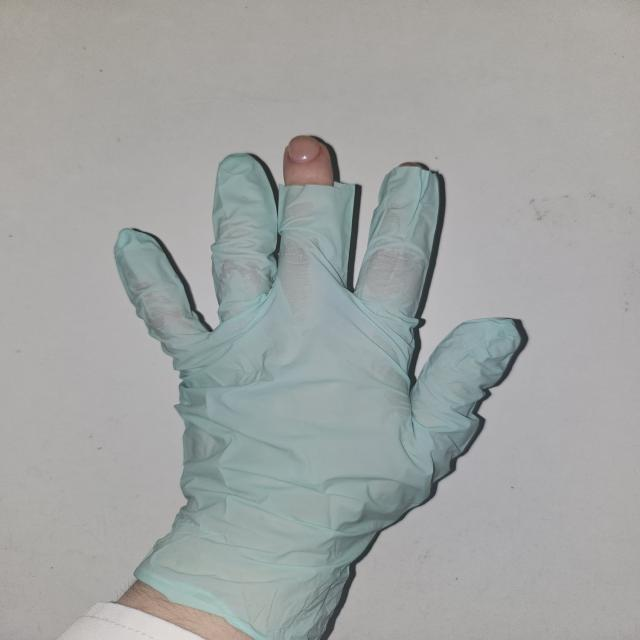gloves_damaged: (111, 132, 530, 638)
